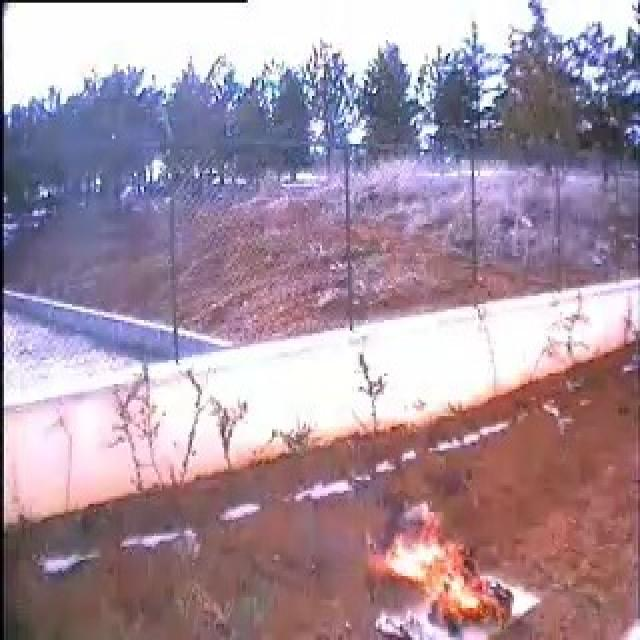fire: (361, 500, 508, 619)
